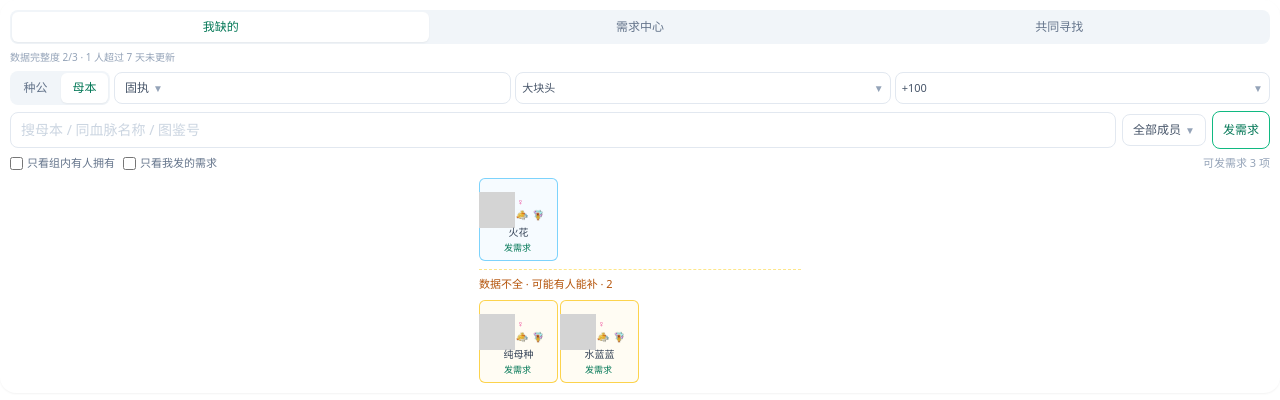
MotherGroupResources 三视图 › 自己能产的蛋仍然展示，也可以勾选发需求（2026-10-29 取消限制）
Expected: the list item with test id "mother-resource-row" is shown, [479,178,558,260]
Click the button with test id "mother-select-action" at {"x": 1241, "y": 130}, box [1212,111,1270,149]
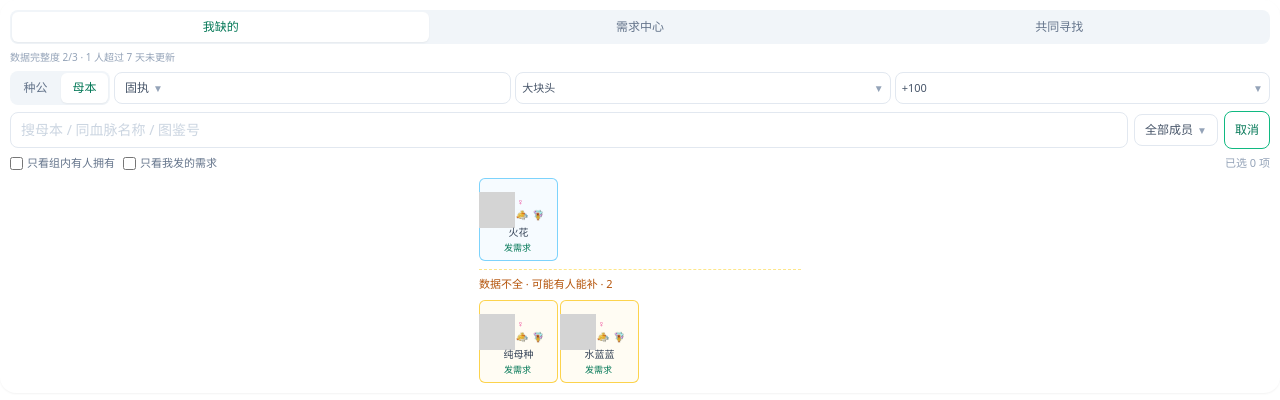
Click the list item with test id "mother-resource-row" at {"x": 518, "y": 219}, box [479,178,558,260]
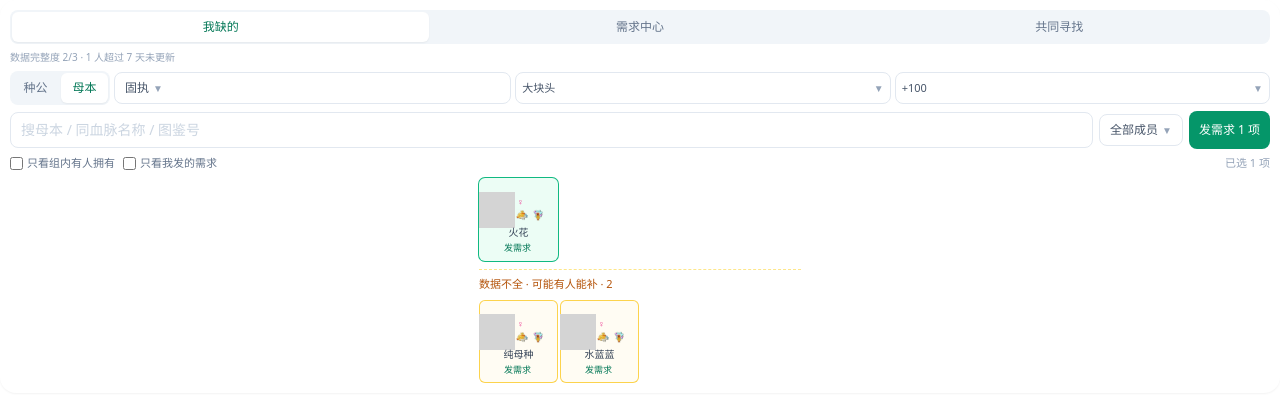
Now the button with test id "mother-select-action" reads "发需求 1 项", box [1189,111,1270,149]
